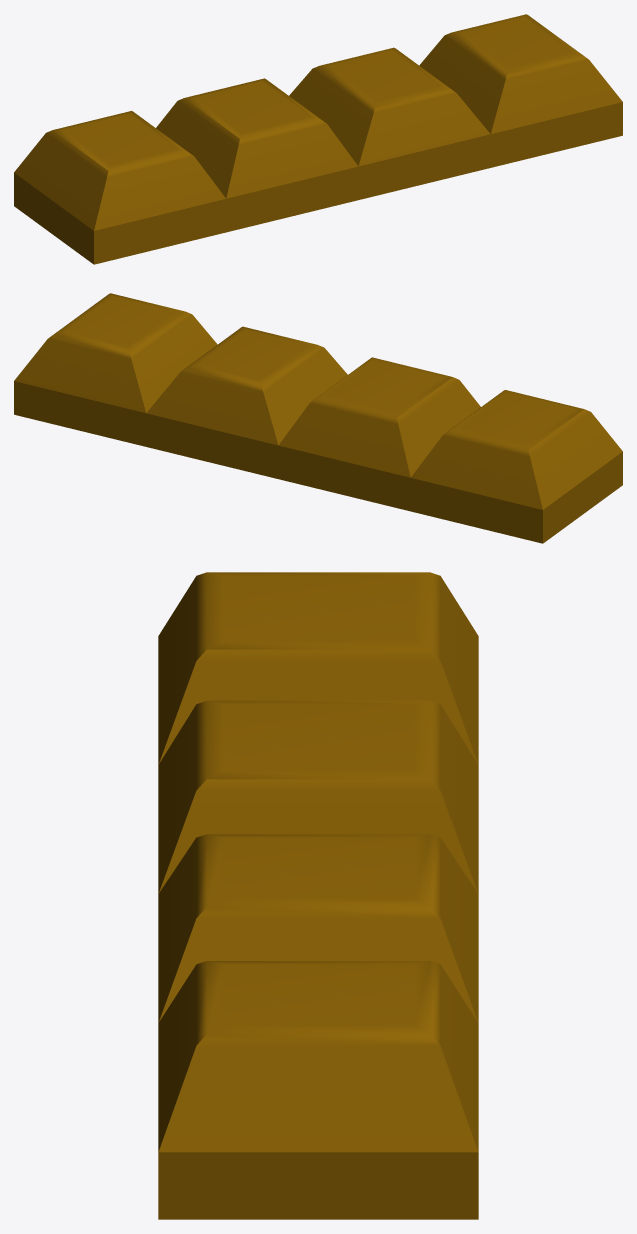
File: choco1.fbx
3 renders of one model, top to bottom at view 1: azimuth 30°, elevation 25°; view 2: azimuth 150°, elevation 25°; view 3: azimuth 270°, elevation 25°, orthographic. The views are drawn at different scales.
Visible parts, largest first — view 1: pCube4; view 2: pCube4; view 3: pCube4.
Boxes of the visible parts, x1,y1,x2,y2 form: pCube4: (14, 14, 622, 264); pCube4: (14, 293, 622, 543); pCube4: (158, 572, 478, 1219).
Bounding box in the file's own units: 1.36 × 0.1968 × 0.3567.
